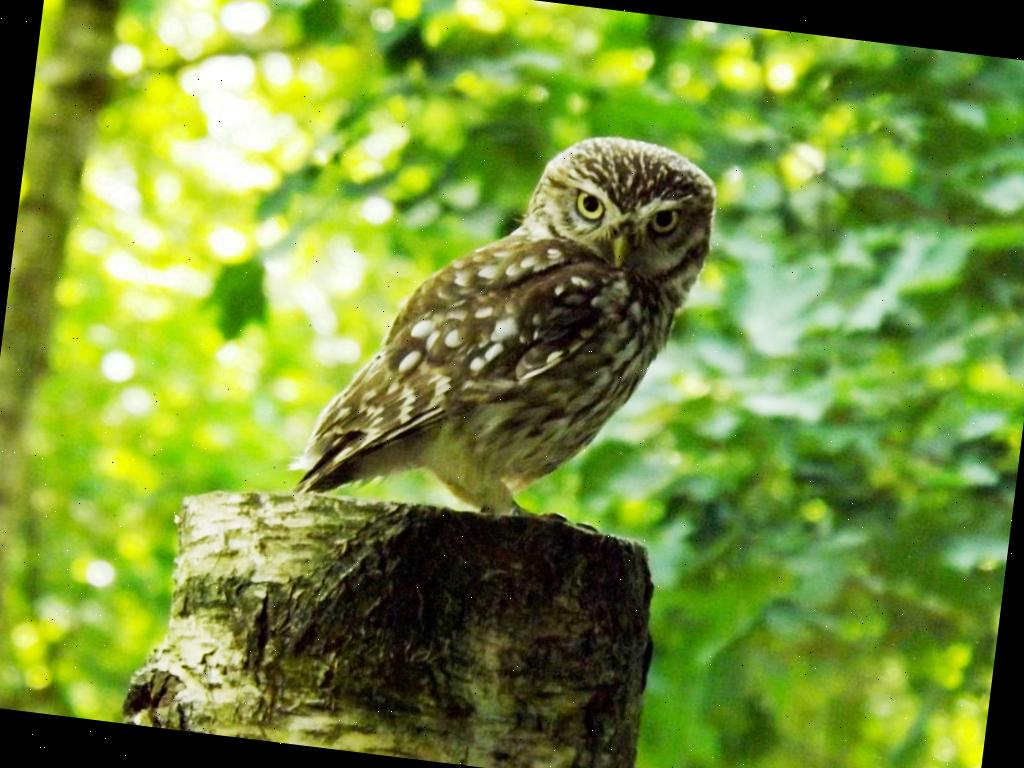Owl: (285, 100, 726, 542)
